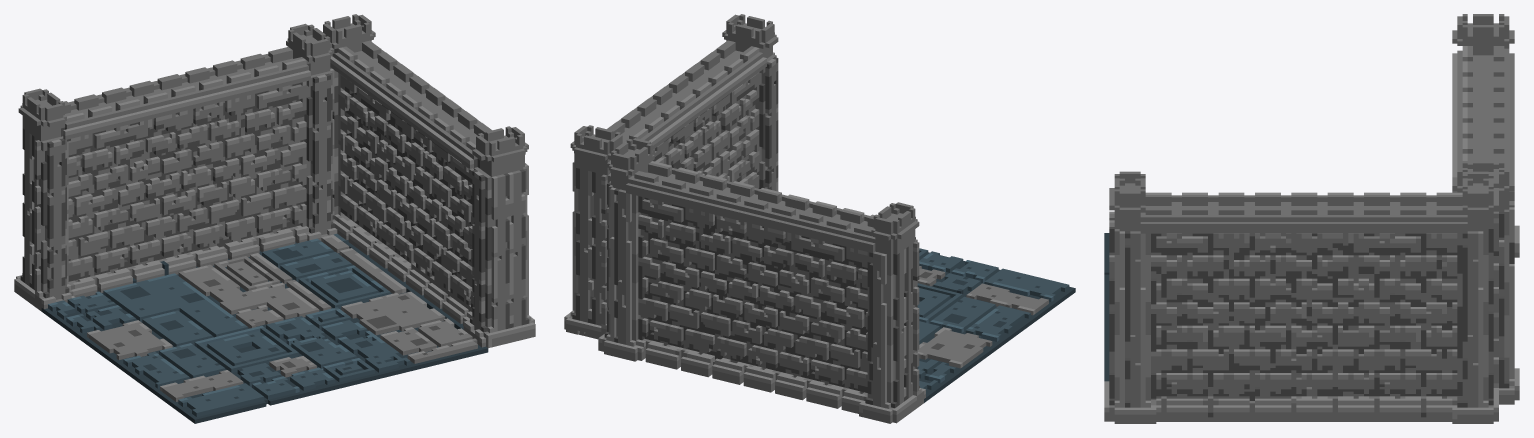
Rendered from Wall_esquina.obj.
The picture shows the model from 3 angles, left to right: view 1: azimuth 30°, elevation 25°; view 2: azimuth 150°, elevation 25°; view 3: azimuth 270°, elevation 25°; orthographic projection. The views are drawn at different scales.
Size of the model in its own units: 87 by 49 by 80.
Materials: 1 (1 with a texture image).
